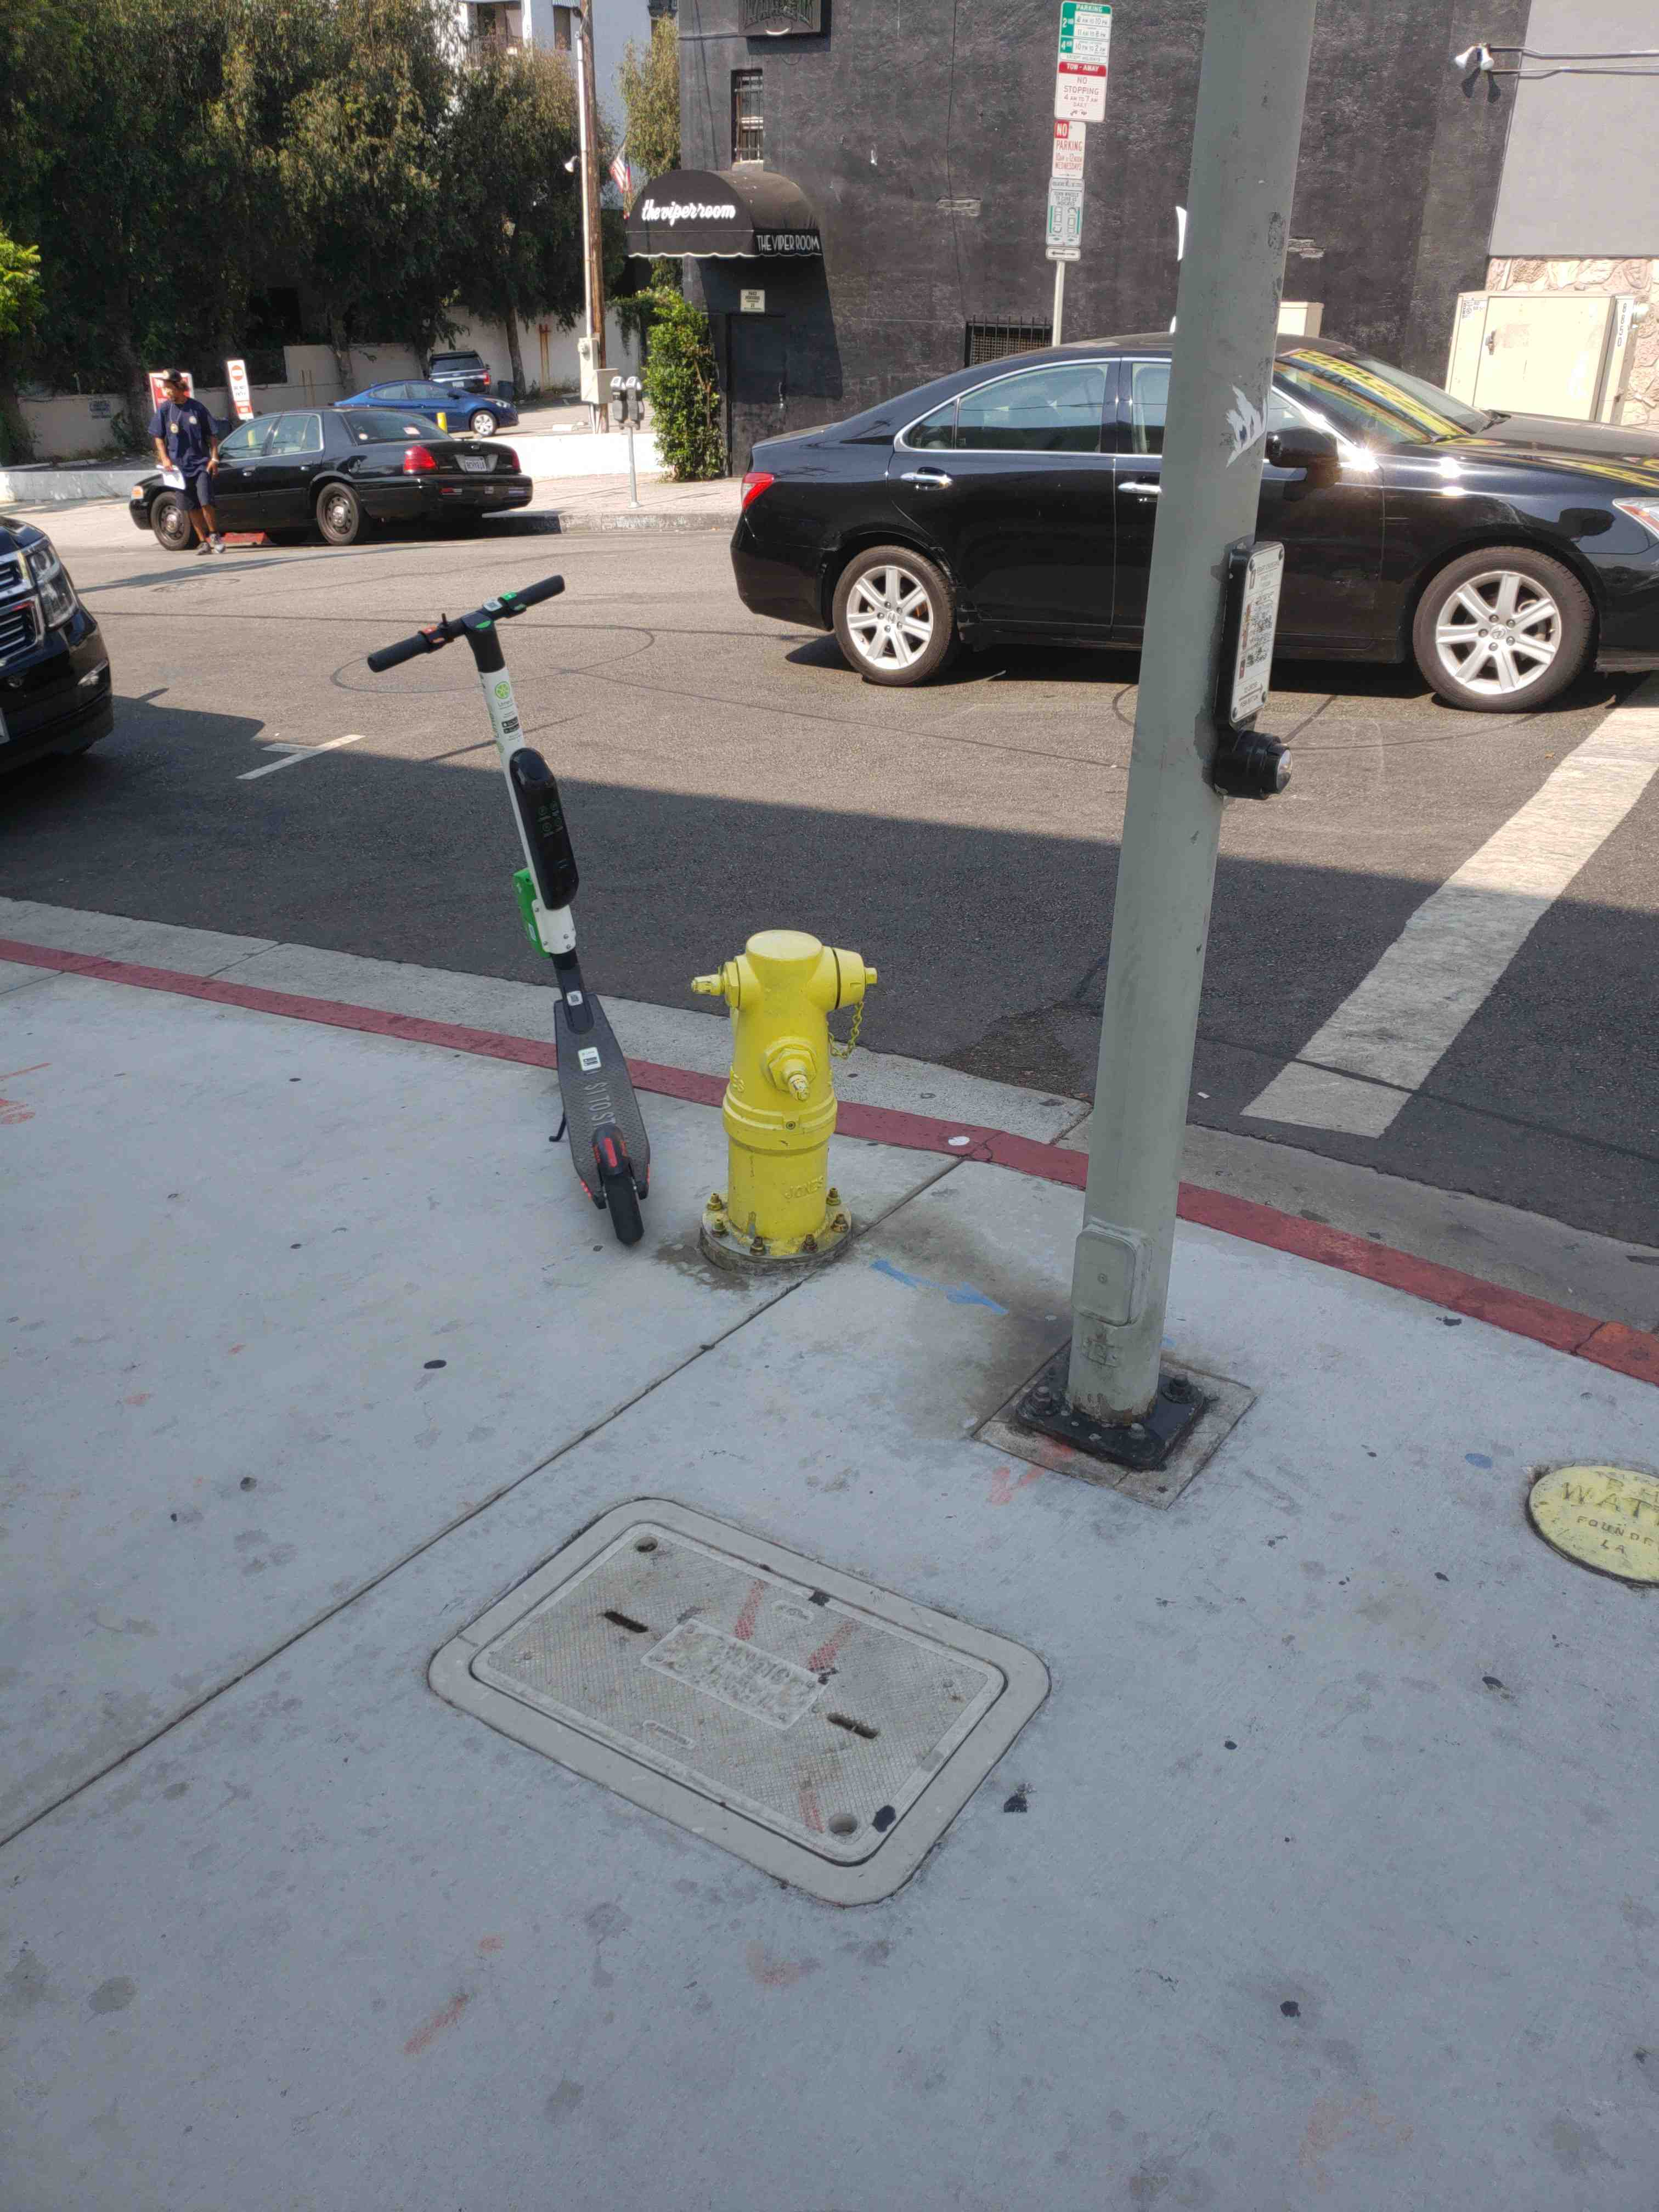scooter: (580, 340, 1223, 697)
